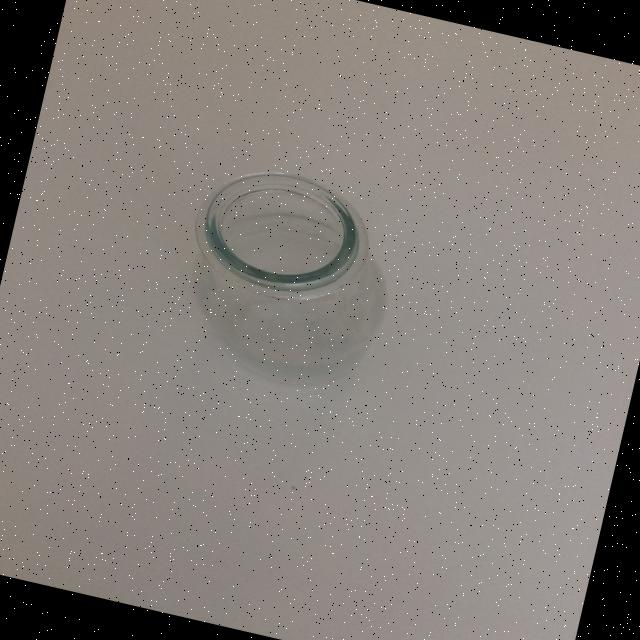glass: (162, 154, 411, 404)
